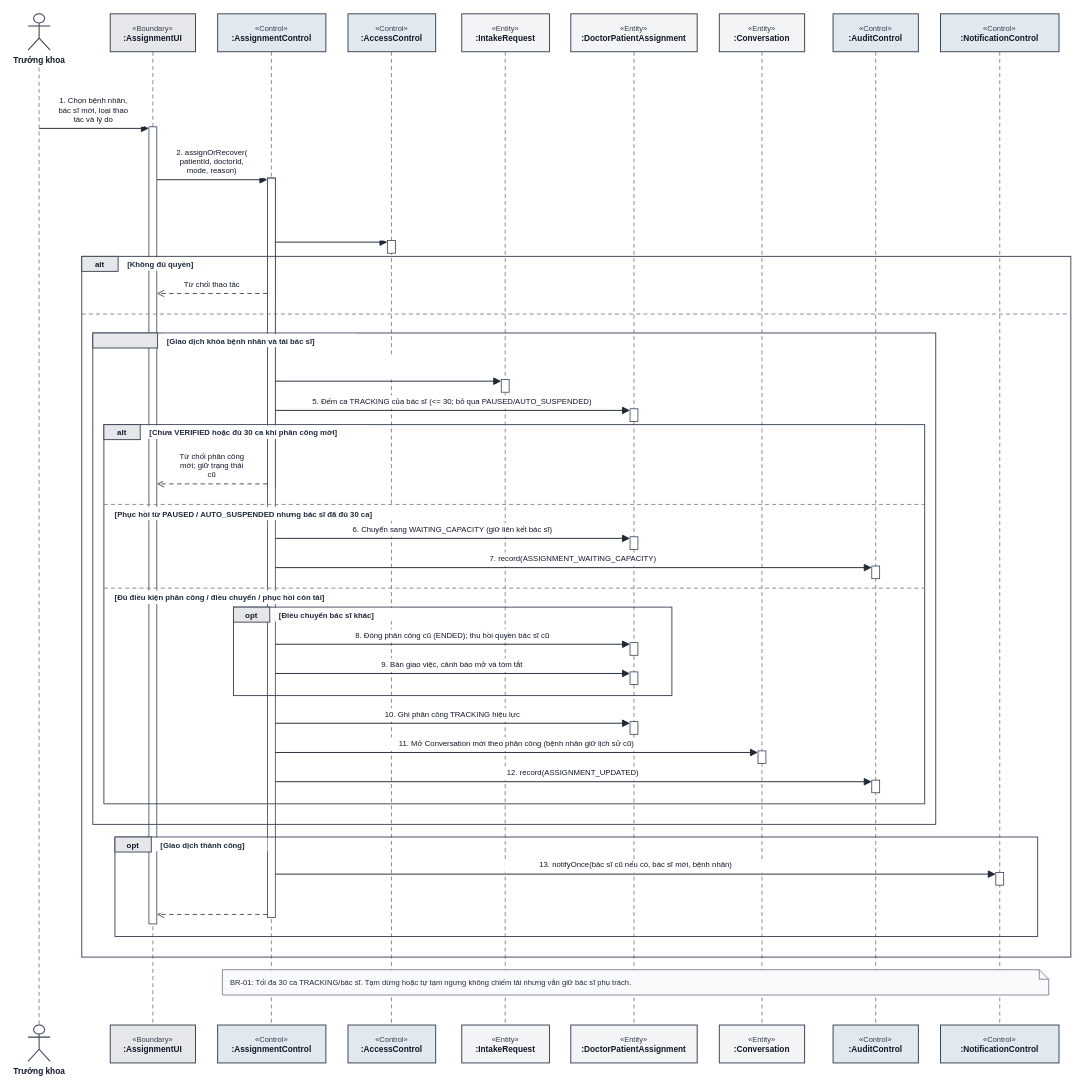
The diagram is 1085 pixels wide and 1091 high, and some of its shapes have lost their labels. Each missing label, with the centre of its shape:
"3. checkRole(HEAD_DOCTOR hoặc quyền phục hồi hợp lệ)" goes at point 331,217.
"4. Kiểm tra IntakeRequest đã VERIFIED & tài khoản ACTIVE" goes at point 388,367.
"[Có quyền]" goes at point 116,322.
"critical" goes at point 125,340.
"Cập nhật phân công và điều phối thành công" goes at point 212,900.
